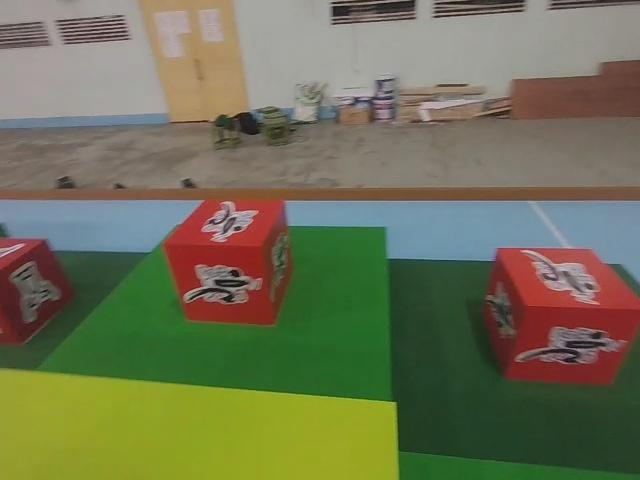R1: (482, 244, 640, 388), (163, 197, 294, 328)
R2 Real: (0, 233, 79, 347)
